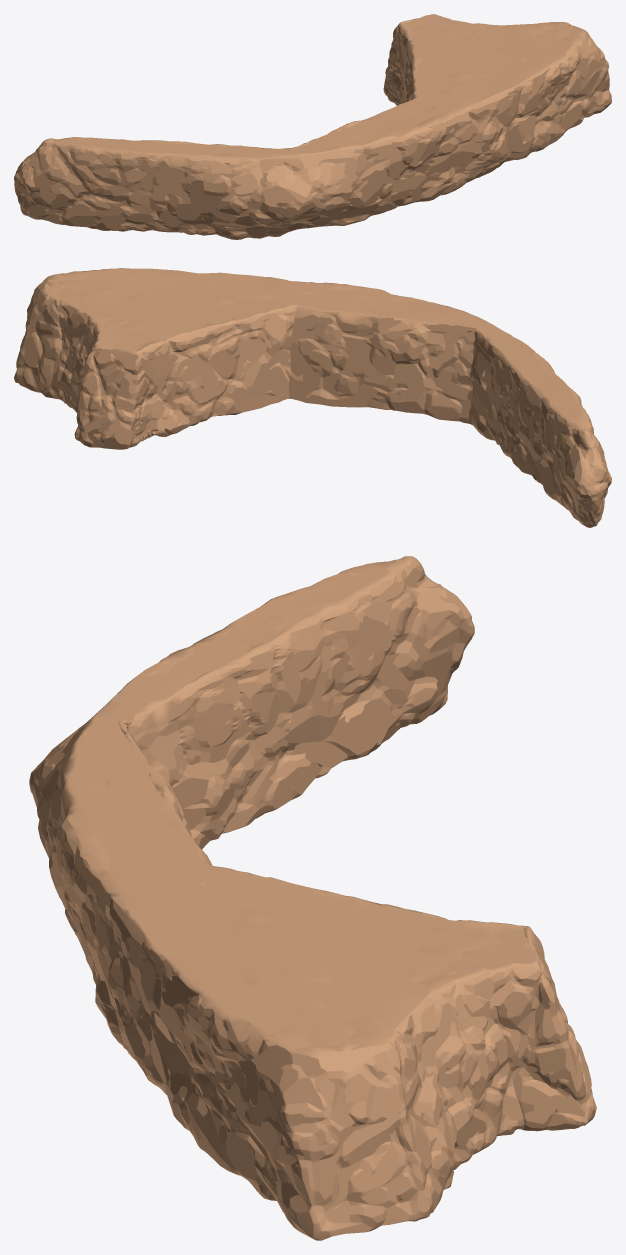
Rendered from Canyon4.fbx_Mesh_69LODs.fbx.
The picture shows the model from 3 angles, top to bottom: view 1: azimuth 30°, elevation 25°; view 2: azimuth 150°, elevation 25°; view 3: azimuth 270°, elevation 25°; orthographic projection. The views are drawn at different scales.
Visible parts, largest first — view 1: Mesh_69_LOD0; view 2: Mesh_69_LOD0; view 3: Mesh_69_LOD0.
Part boxes in pixels (x1,y1,x2,y2): Mesh_69_LOD0: (14, 14, 611, 239); Mesh_69_LOD0: (14, 268, 611, 527); Mesh_69_LOD0: (29, 556, 596, 1240).
Size of what is drawn, in the model's own units: 33295 by 4893 by 14512.
